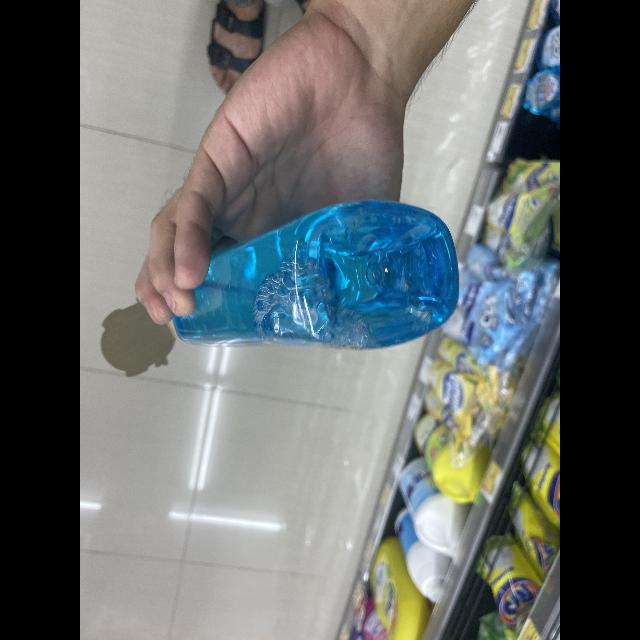chemical_plastic_bottle: (142, 185, 462, 362)
